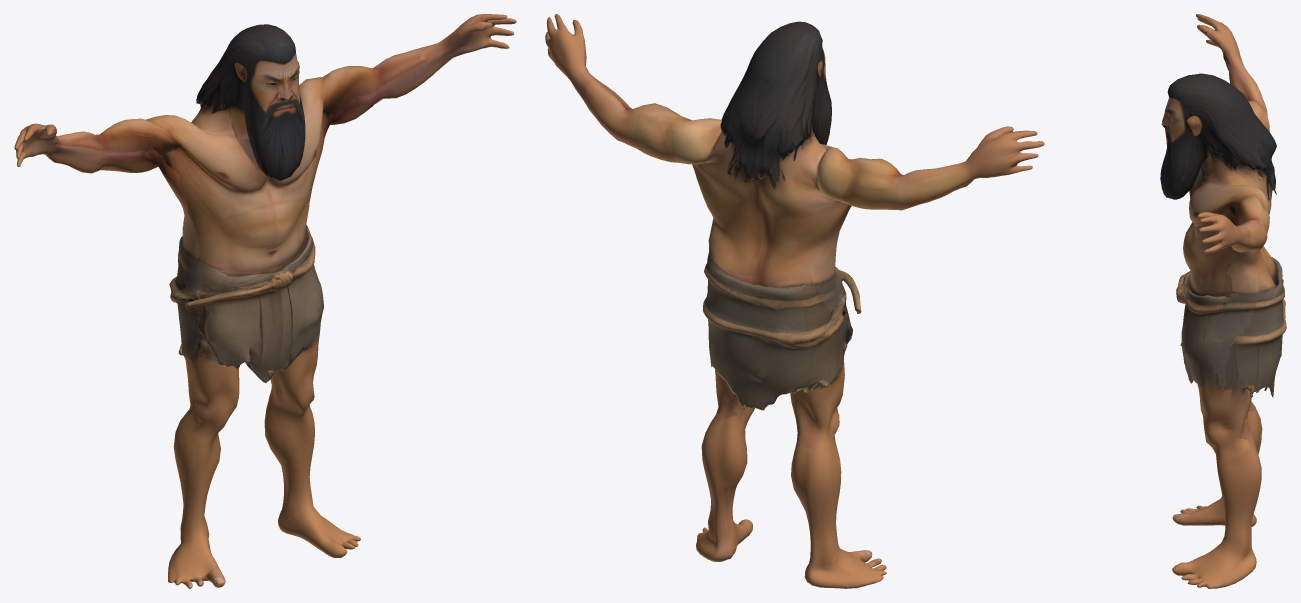
File: Adult_Man_Paleolithic2 (1).fbx
The picture shows the model from 3 angles, left to right: view 1: azimuth 30°, elevation 25°; view 2: azimuth 150°, elevation 25°; view 3: azimuth 270°, elevation 25°; orthographic projection. The views are drawn at different scales.
Visible parts, largest first — view 1: Adult_Primitive_man; view 2: Adult_Primitive_man; view 3: Adult_Primitive_man.
Part boxes in pixels (<box>): Adult_Primitive_man: <box>14,14,516,588</box>; Adult_Primitive_man: <box>545,14,1044,588</box>; Adult_Primitive_man: <box>1160,14,1286,588</box>.
Size of the model in its own units: 168 by 172 by 56.29.
1 material, 1 textured.
